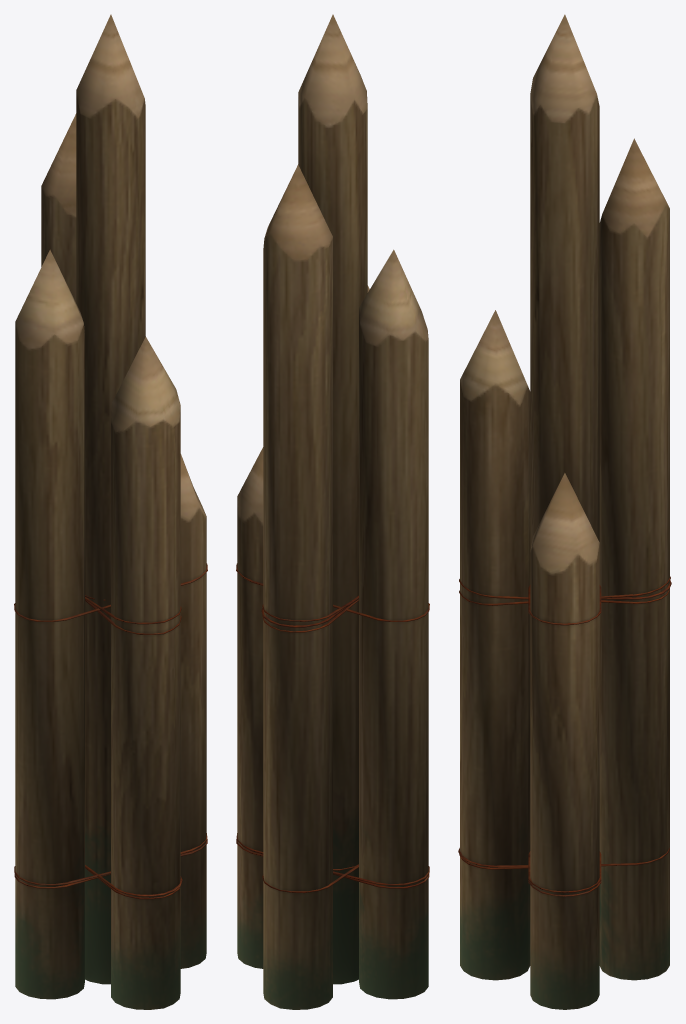
File: sb_obj_outdoor015_WoodWall01f.fbx
3 renders of one model, left to right at view 1: azimuth 30°, elevation 25°; view 2: azimuth 150°, elevation 25°; view 3: azimuth 270°, elevation 25°, orthographic.
Visible parts, largest first — view 1: sb_obj_outdoor015_WoodWall01f, wire_01f; view 2: sb_obj_outdoor015_WoodWall01f, wire_01f; view 3: sb_obj_outdoor015_WoodWall01f, wire_01f.
Part boxes in pixels (box(x1,y1,x2,y2)): sb_obj_outdoor015_WoodWall01f: box(15, 14, 206, 1009); wire_01f: box(14, 563, 207, 899); sb_obj_outdoor015_WoodWall01f: box(237, 14, 428, 1009); wire_01f: box(236, 563, 429, 893); sb_obj_outdoor015_WoodWall01f: box(460, 14, 669, 1009); wire_01f: box(458, 576, 671, 896).
Bounding box in the file's own units: 1.01 × 5 × 1.02.
